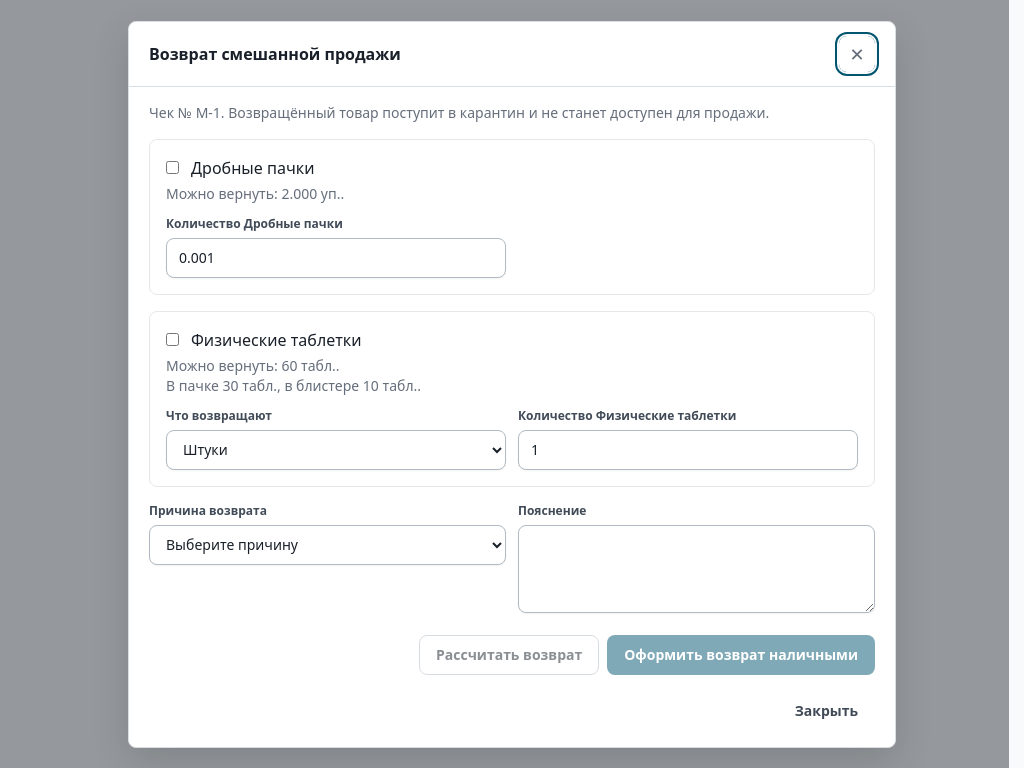
it: mixed refund dialog › invalidates review after changing legacy
This screenshot has width=1024, height=768.
Click the checkbox labelled "Дробные пачки": (172, 168) [166, 161, 179, 174]
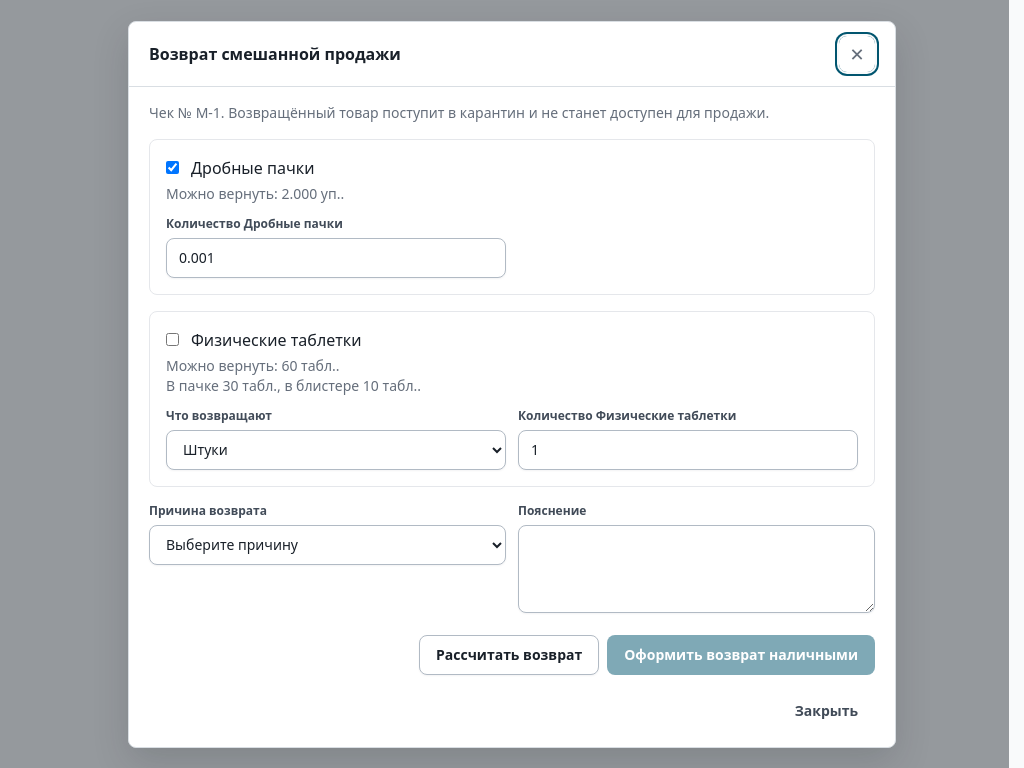
Click the checkbox labelled "Физические таблетки": (172, 340) [166, 333, 179, 346]
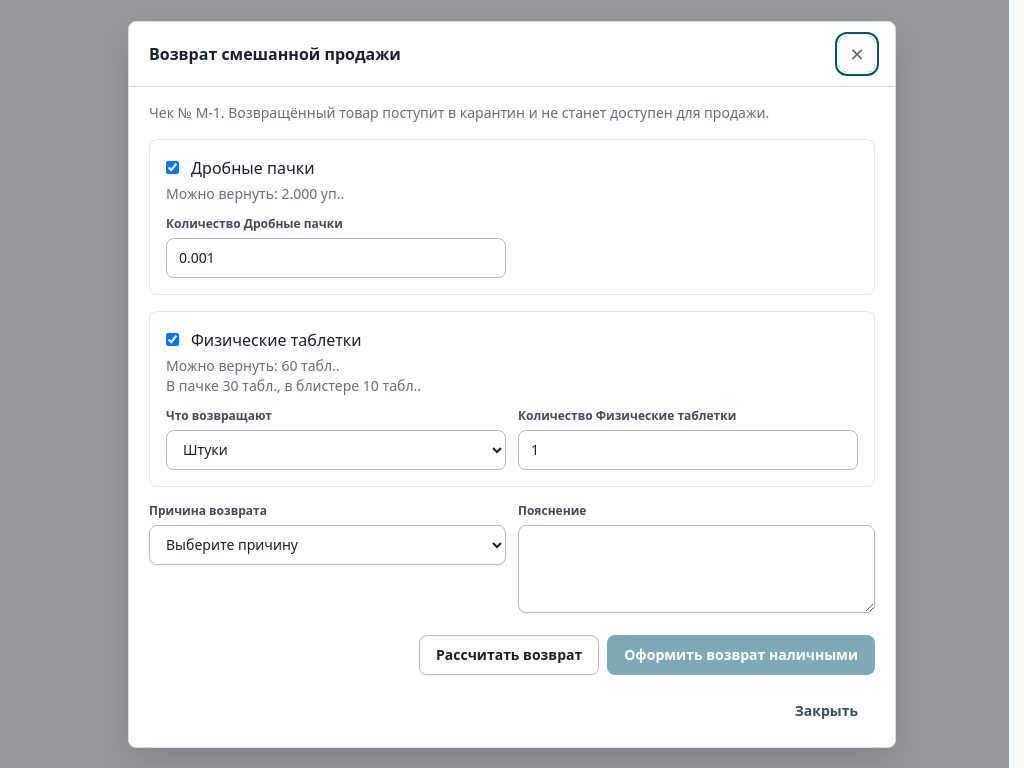
Click the button "Рассчитать возврат": (509, 654) [419, 634, 599, 674]
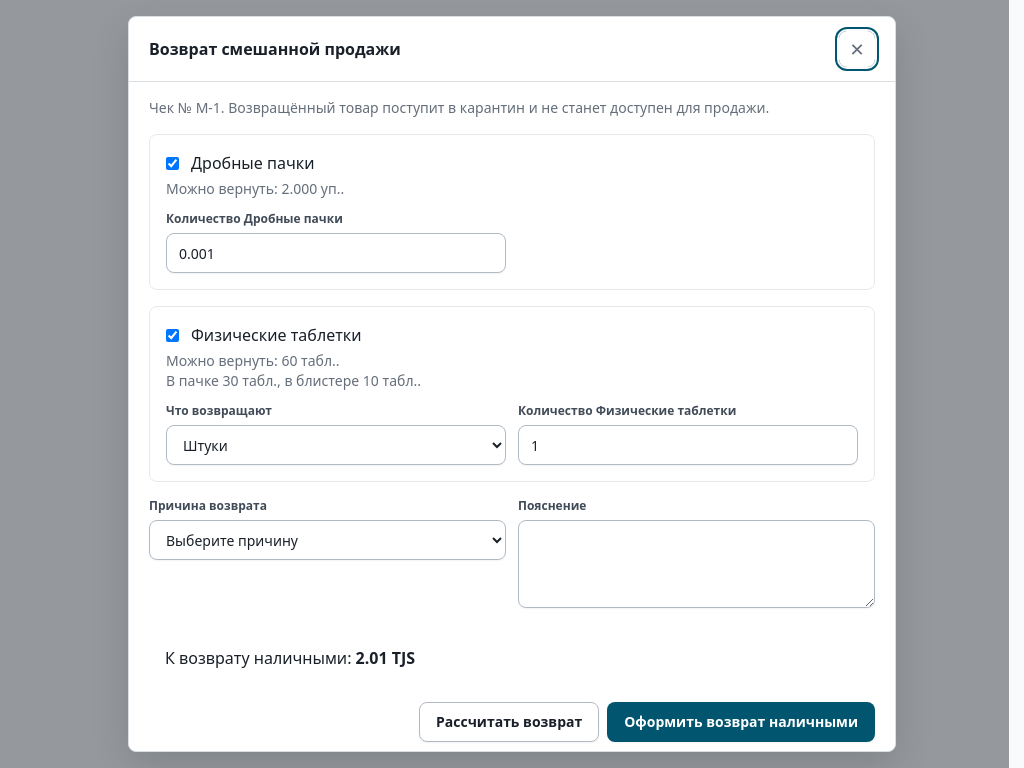
expect the text "2.01 TJS" is shown: met, box [356, 647, 415, 669]
expect the button "Оформить возврат наличными" is enabled: met, box [607, 702, 875, 742]
Replace the text in the number field labelled "Количество Дробные пачки" with "0.002": (336, 253) [166, 233, 506, 273]
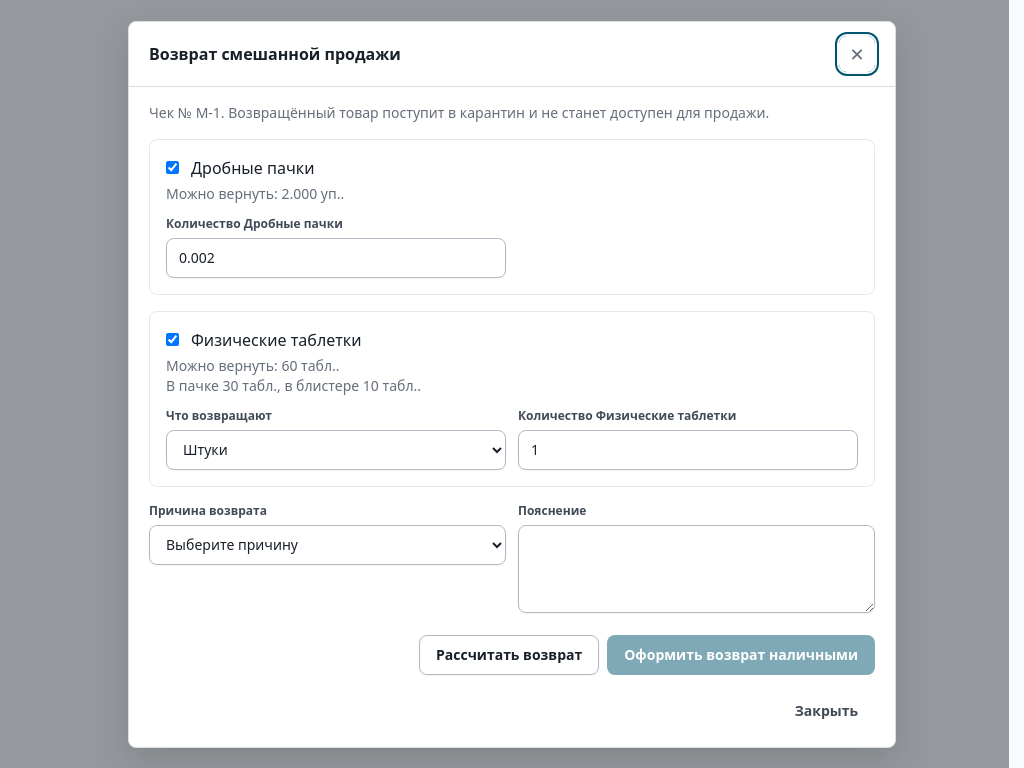
expect the button "Оформить возврат наличными" is disabled: met, box [607, 634, 875, 674]
expect the text "2.01 TJS" is gone: met
